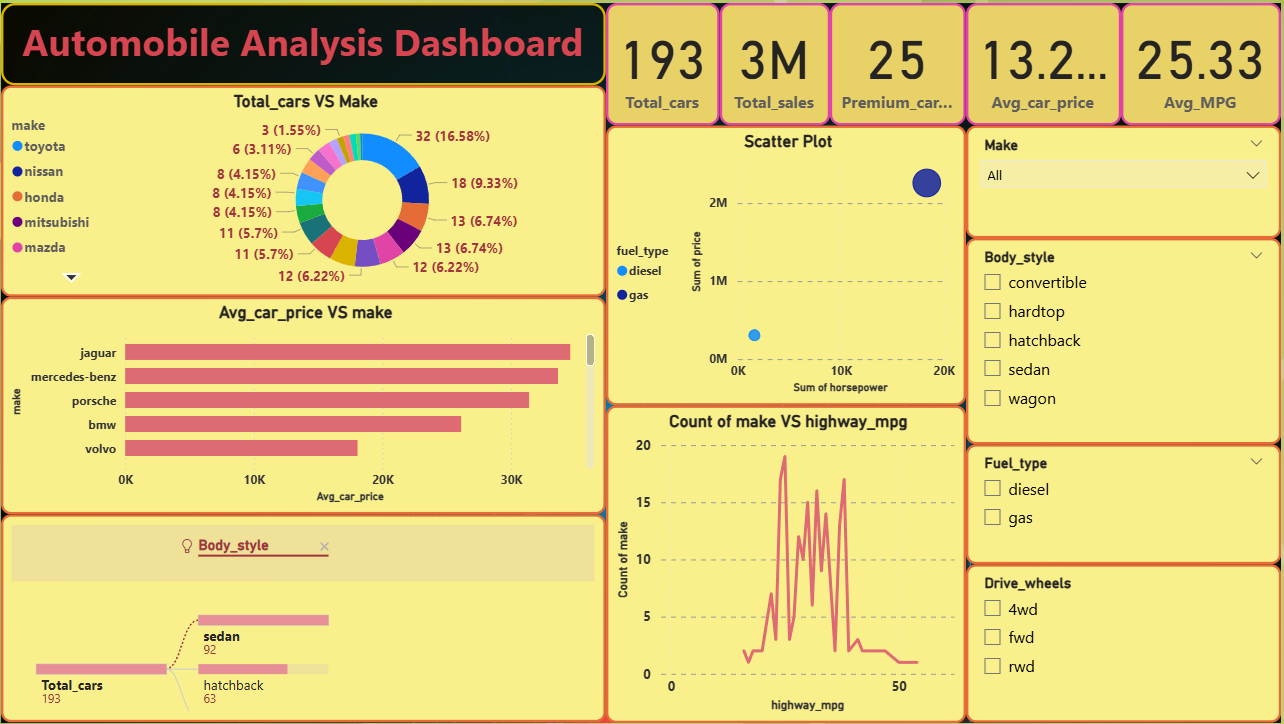

Layout of this report page (visuals, bound fields, positions):
{"tool":"powerbi","page":{"name":"Page 1","canvas":[1280,720],"ordinal":0},"visuals":[{"type":"textbox","box":[0,0,605,82.5],"z":0},{"type":"card","fields":{"Values":["Automobile.Total_cars"]},"box":[605,0,113.8,122.5],"z":1000},{"type":"card","fields":{"Values":["Automobile.Premium_car_count"]},"box":[828.8,0,136.2,122.5],"z":2000},{"type":"card","fields":{"Values":["Automobile.Avg_car_price"]},"box":[965,0,155,122.5],"z":3000},{"type":"card","fields":{"Values":["Automobile.Avg_MPG"]},"box":[1120,0,160,122.5],"z":4000},{"type":"card","fields":{"Values":["Automobile.Total_sales_value"]},"box":[718.8,0,110,122.5],"z":5000},{"type":"donutChart","title":"Total_cars VS Make","fields":{"Category":["Automobile.make"],"Y":["Automobile.Total_cars"]},"box":[0,82.5,605,211.2],"z":6000},{"type":"clusteredBarChart","title":"Avg_car_price VS make","fields":{"Category":["Automobile.make"],"Y":["Automobile.Avg_car_price"]},"box":[0,293.8,605,217.5],"z":7000},{"type":"decompositionTreeVisual","fields":{"ExplainBy":["Automobile.body_style"],"Analyze":["Automobile.Total_cars"]},"box":[0,511.2,605,208],"z":8000},{"type":"scatterChart","title":"Scatter Plot","fields":{"X":["Sum(Automobile.horsepower)"],"Y":["Sum(Automobile.price)"],"Series":["Automobile.fuel_type"],"Size":["Sum(Automobile.engine_size)"]},"box":[605,122.5,360,280],"z":9000},{"type":"lineChart","title":"Count of make VS highway_mpg","fields":{"Category":["Automobile.city_mpg","Automobile.highway_mpg"],"Y":["CountNonNull(Automobile.make)"]},"box":[605,402.5,360,317.5],"z":10000},{"type":"slicer","fields":{"Values":["Automobile.make"]},"box":[965,122.5,315,112.5],"z":11000},{"type":"slicer","fields":{"Values":["Automobile.body_style"]},"box":[965,235,315,206.2],"z":12000},{"type":"slicer","fields":{"Values":["Automobile.drive_wheels"]},"box":[965,561.2,315,158.8],"z":13000},{"type":"slicer","fields":{"Values":["Automobile.fuel_type"]},"box":[965,441.2,315,120],"z":14000}]}

Visuals, with their boxes in screenshot pixels (x1, y1, x2, y2), scaled from the page's 1280x720 canvas onto the 1284x724 screenshot:
textbox: region(0, 0, 607, 83)
card - Automobile.Total_cars: region(607, 0, 721, 123)
card - Automobile.Premium_car_count: region(831, 0, 968, 123)
card - Automobile.Avg_car_price: region(968, 0, 1124, 123)
card - Automobile.Avg_MPG: region(1124, 0, 1283, 123)
card - Automobile.Total_sales_value: region(721, 0, 831, 123)
"Total_cars VS Make" donutChart: region(0, 83, 607, 295)
"Avg_car_price VS make" clusteredBarChart: region(0, 295, 607, 514)
decompositionTreeVisual - Automobile.body_style x Automobile.Total_cars: region(0, 514, 607, 723)
"Scatter Plot" scatterChart: region(607, 123, 968, 405)
"Count of make VS highway_mpg" lineChart: region(607, 405, 968, 723)
slicer - Automobile.make: region(968, 123, 1283, 236)
slicer - Automobile.body_style: region(968, 236, 1283, 444)
slicer - Automobile.drive_wheels: region(968, 564, 1283, 723)
slicer - Automobile.fuel_type: region(968, 444, 1283, 564)
